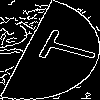T: (25, 25, 100, 71)
